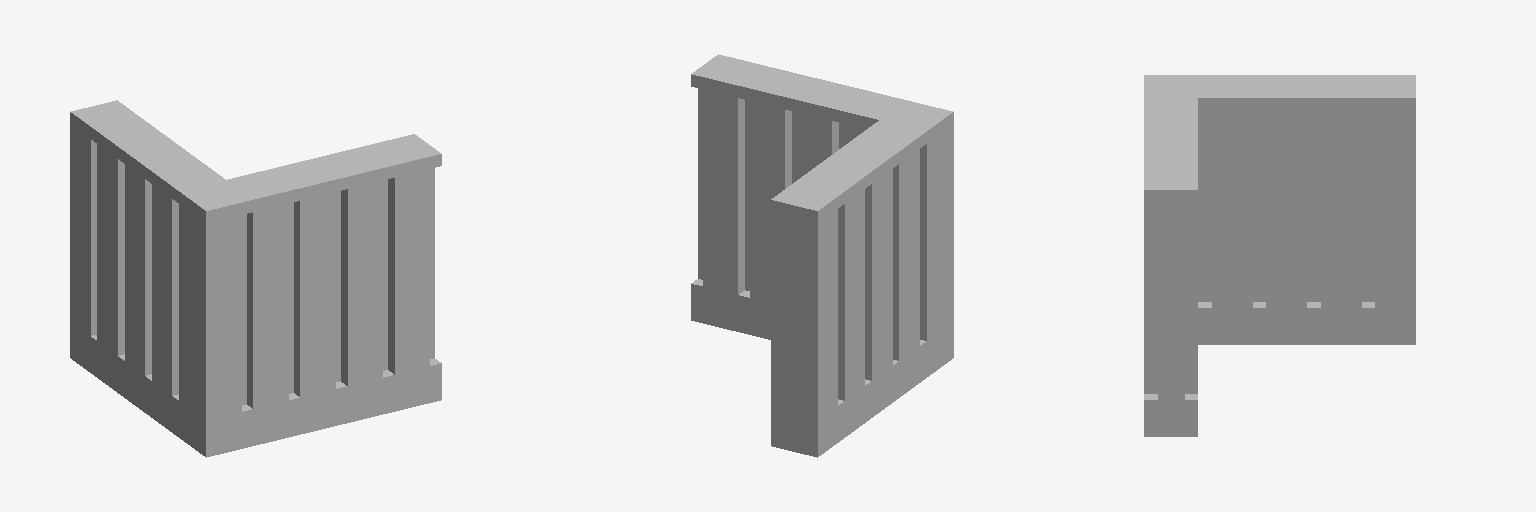
File: wall_corner.obj
The picture shows the model from 3 angles: view 1: azimuth 30°, elevation 25°; view 2: azimuth 150°, elevation 25°; view 3: azimuth 270°, elevation 25°; orthographic projection.
Parts seen in each view (by area): view 1: wall_corner; view 2: wall_corner; view 3: wall_corner.
Part boxes in pixels (x1,y1,x2,y2): wall_corner: (70, 100, 441, 457); wall_corner: (691, 54, 953, 457); wall_corner: (1144, 75, 1415, 436).
Size of the model in its own units: 20 by 20 by 20.